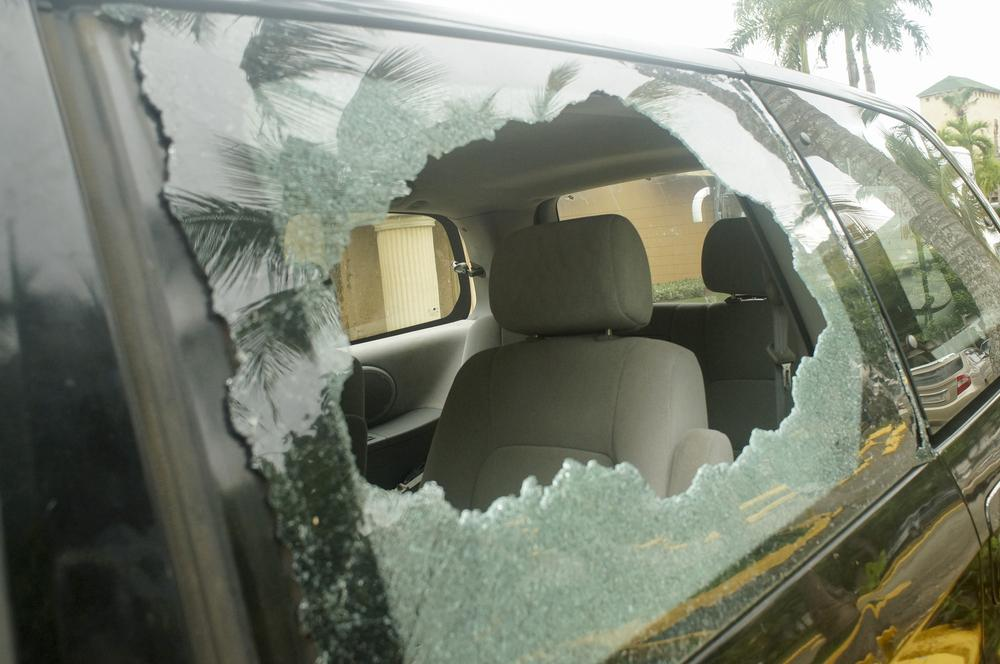glass shatter: (89, 2, 930, 664)
